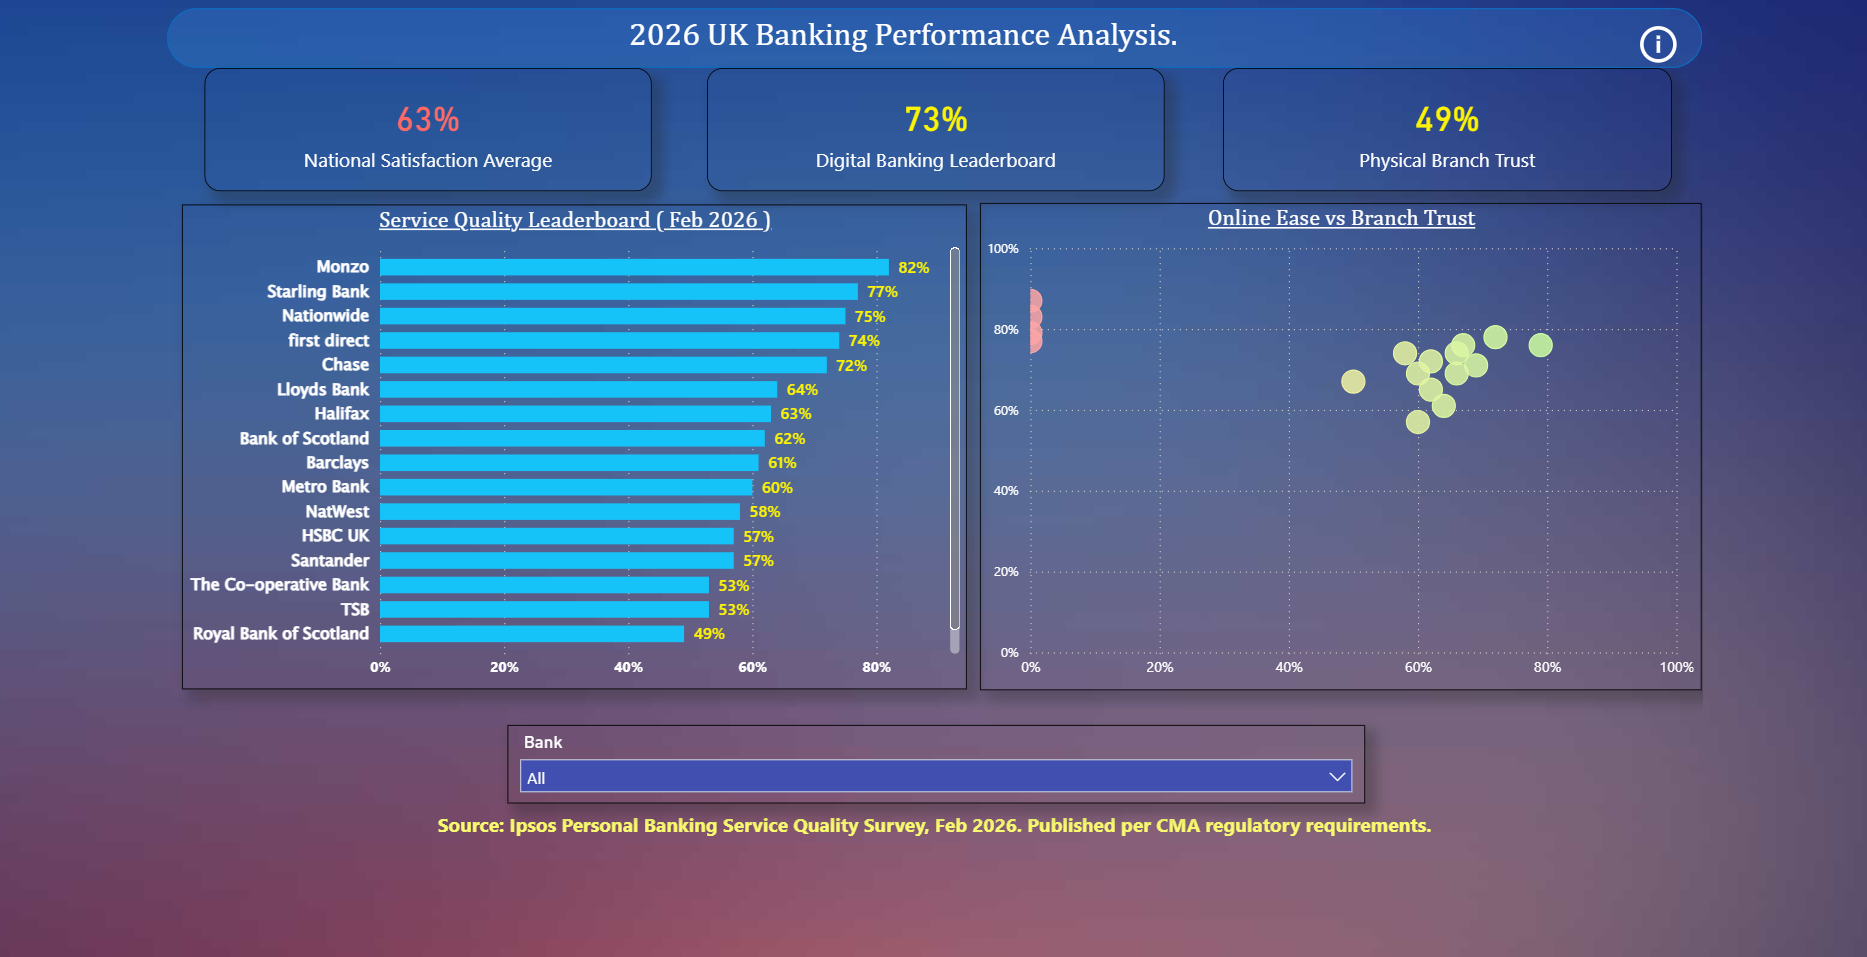

This screenshot's page, from the dashboard's own definition file:
{"tool":"powerbi","page":{"name":"Page 1","canvas":[1280,720],"ordinal":0},"visuals":[{"type":"clusteredBarChart","title":"Service Quality Leaderboard ( Feb 2026 )","fields":{"Y":["Avg(Power BI Bank Data Import Guide.Overall Quality)"],"Category":["Power BI Bank Data Import Guide.Bank"]},"box":[12.1,163.5,654.1,404.3],"z":0},{"type":"textbox","box":[0,663.3,1279.4,56.7],"z":1000},{"type":"scatterChart","title":"Online Ease vs Branch Trust","fields":{"X":["Avg(Power BI Bank Data Import Guide.Branches)"],"Y":["Avg(Power BI Bank Data Import Guide.Online & Mobile)"],"Category":["Power BI Bank Data Import Guide.Bank"]},"box":[677.5,162.3,601.3,405.8],"z":2000},{"type":"slicer","fields":{"Values":["Power BI Bank Data Import Guide.Bank"]},"box":[283.2,598.1,714.7,65.1],"z":3000},{"type":"shape","box":[0,0,1279.5,50],"z":4000},{"type":"textbox","box":[160.5,0,907,50],"z":5000},{"type":"card","title":"UK Personal Banking: Overall Service Quality (Feb 2026)","fields":{"Values":["Avg(Power BI Bank Data Import Guide.Overall Quality)"]},"box":[31.8,50,372.5,103],"z":6000},{"type":"card","title":"UK Personal Banking: Overall Service Quality (Feb 2026)","fields":{"Values":["Avg(Power BI Bank Data Import Guide.Branches)"]},"box":[879.8,50,374,103],"z":7000},{"type":"card","title":"UK Personal Banking: Overall Service Quality (Feb 2026)","fields":{"Values":["Avg(Power BI Bank Data Import Guide.Online & Mobile)"]},"box":[449.7,50,381.6,103],"z":8000},{"type":"actionButton","box":[1223.1,10.2,56.9,40.6],"z":10000}]}

Visuals, with their boxes on the page's 1280x720 design canvas (x1, y1, x2, y2). These are canvas units, not pixel positions in the 1867x957 screenshot, which may show the page scaled, cropped or inside an application window:
"Service Quality Leaderboard ( Feb 2026 )" clusteredBarChart: 12:164:666:568
textbox: 0:663:1279:720
"Online Ease vs Branch Trust" scatterChart: 678:162:1279:568
slicer - Power BI Bank Data Import Guide.Bank: 283:598:998:663
shape: 0:0:1280:50
textbox: 160:0:1068:50
"UK Personal Banking: Overall Service Quality (Feb 2026)" card: 32:50:404:153
"UK Personal Banking: Overall Service Quality (Feb 2026)" card: 880:50:1254:153
"UK Personal Banking: Overall Service Quality (Feb 2026)" card: 450:50:831:153
actionButton: 1223:10:1280:51
